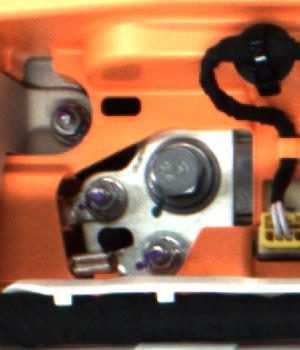nut_b: (145, 136, 225, 216)
screw_s: (47, 94, 84, 144), (89, 180, 133, 219), (142, 235, 182, 273)
